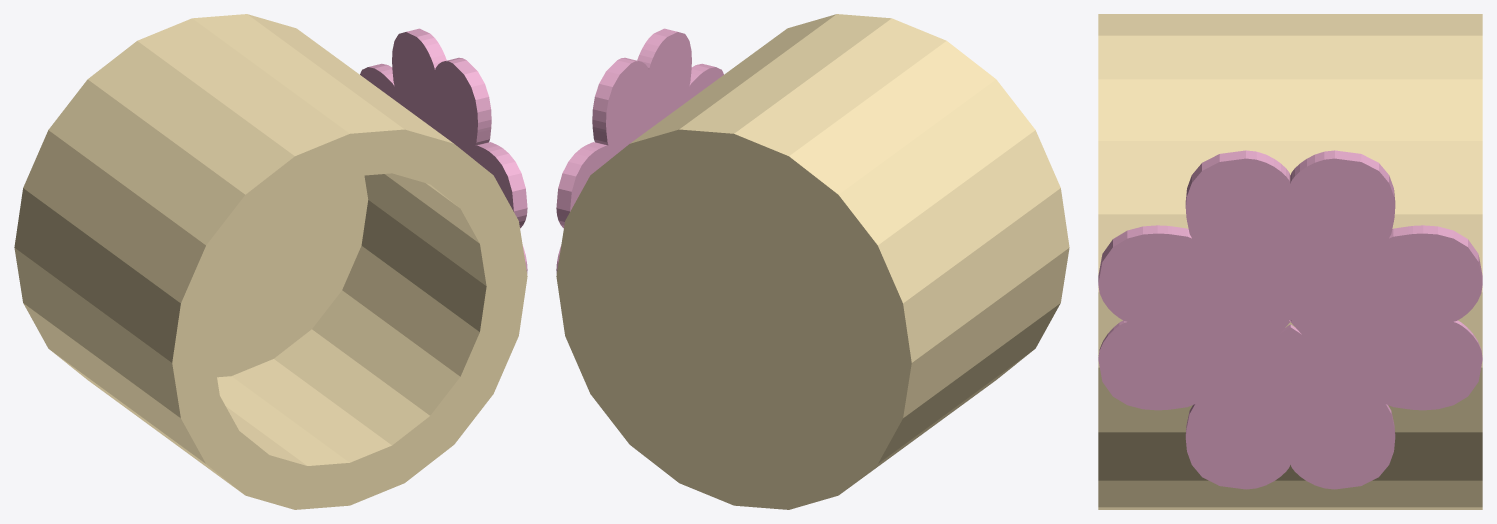
The model's file is tinker.obj.
3 renders of one model, left to right at view 1: azimuth 30°, elevation 25°; view 2: azimuth 150°, elevation 25°; view 3: azimuth 270°, elevation 25°, orthographic. The views are drawn at different scales.
Visible parts, largest first — view 1: group_0_16311991, group_0_15708628; view 2: group_0_16311991, group_0_15708628; view 3: group_0_15708628, group_0_16311991.
Boxes of the visible parts, x1,y1,x2,y2 form: group_0_16311991: [14, 14, 527, 509]; group_0_15708628: [360, 28, 527, 273]; group_0_16311991: [556, 14, 1069, 509]; group_0_15708628: [556, 28, 723, 273]; group_0_15708628: [1098, 150, 1482, 489]; group_0_16311991: [1098, 14, 1482, 509].
Bounding box in the file's own units: 26 × 26 × 20.
